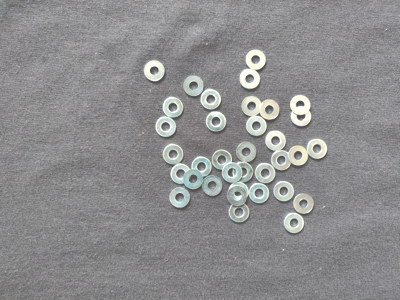circle: (169, 187, 191, 209), (284, 213, 305, 235), (274, 181, 295, 203), (249, 183, 270, 205), (155, 116, 176, 138), (144, 60, 166, 81), (294, 194, 315, 215), (202, 176, 223, 197), (212, 150, 233, 171), (255, 163, 276, 184), (307, 139, 328, 160), (271, 151, 292, 172), (266, 131, 287, 152), (290, 95, 311, 116), (246, 50, 267, 71), (206, 112, 227, 133), (229, 182, 249, 204), (229, 203, 250, 223), (171, 164, 191, 185), (164, 144, 184, 165), (191, 157, 212, 177), (236, 142, 256, 163), (233, 162, 253, 183), (291, 106, 311, 127), (247, 116, 267, 137), (260, 99, 280, 120), (240, 69, 260, 90), (163, 98, 184, 118), (184, 76, 204, 97), (201, 90, 222, 110), (183, 170, 203, 190), (228, 186, 248, 206), (222, 163, 242, 183), (289, 145, 308, 166), (242, 97, 262, 116)
